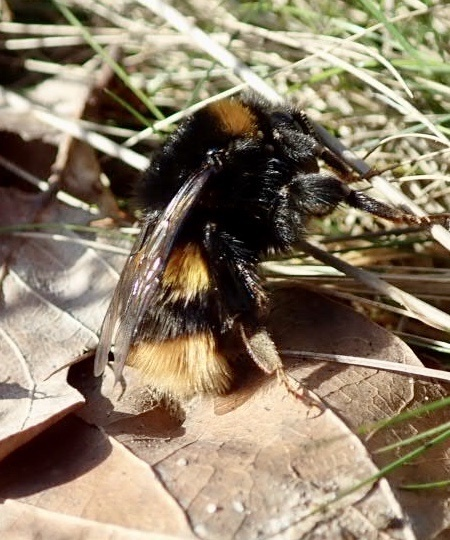bumblebee: (92, 95, 415, 403)
